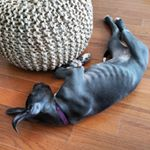puppy: (5, 12, 148, 136)
